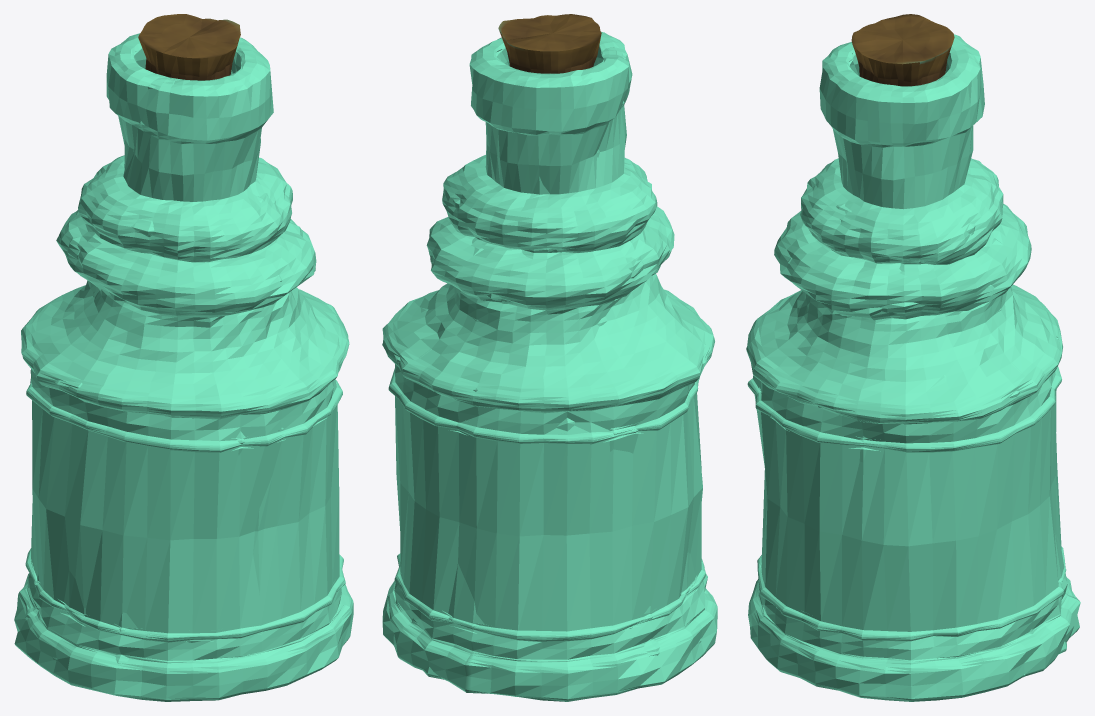
The model's file is crush_medium_0.obj.
3 views of the same model, side by side, from view 1: azimuth 30°, elevation 25°; view 2: azimuth 150°, elevation 25°; view 3: azimuth 270°, elevation 25° (orthographic).
Parts seen in each view (by area): view 1: model; view 2: model; view 3: model.
Boxes of the visible parts, x1,y1,x2,y2 form: model: (14, 14, 353, 701); model: (382, 14, 717, 701); model: (746, 14, 1080, 701).
Bounding box in the file's own units: 0.0736 × 0.1429 × 0.0723.
Materials: 1 (1 with a texture image).
